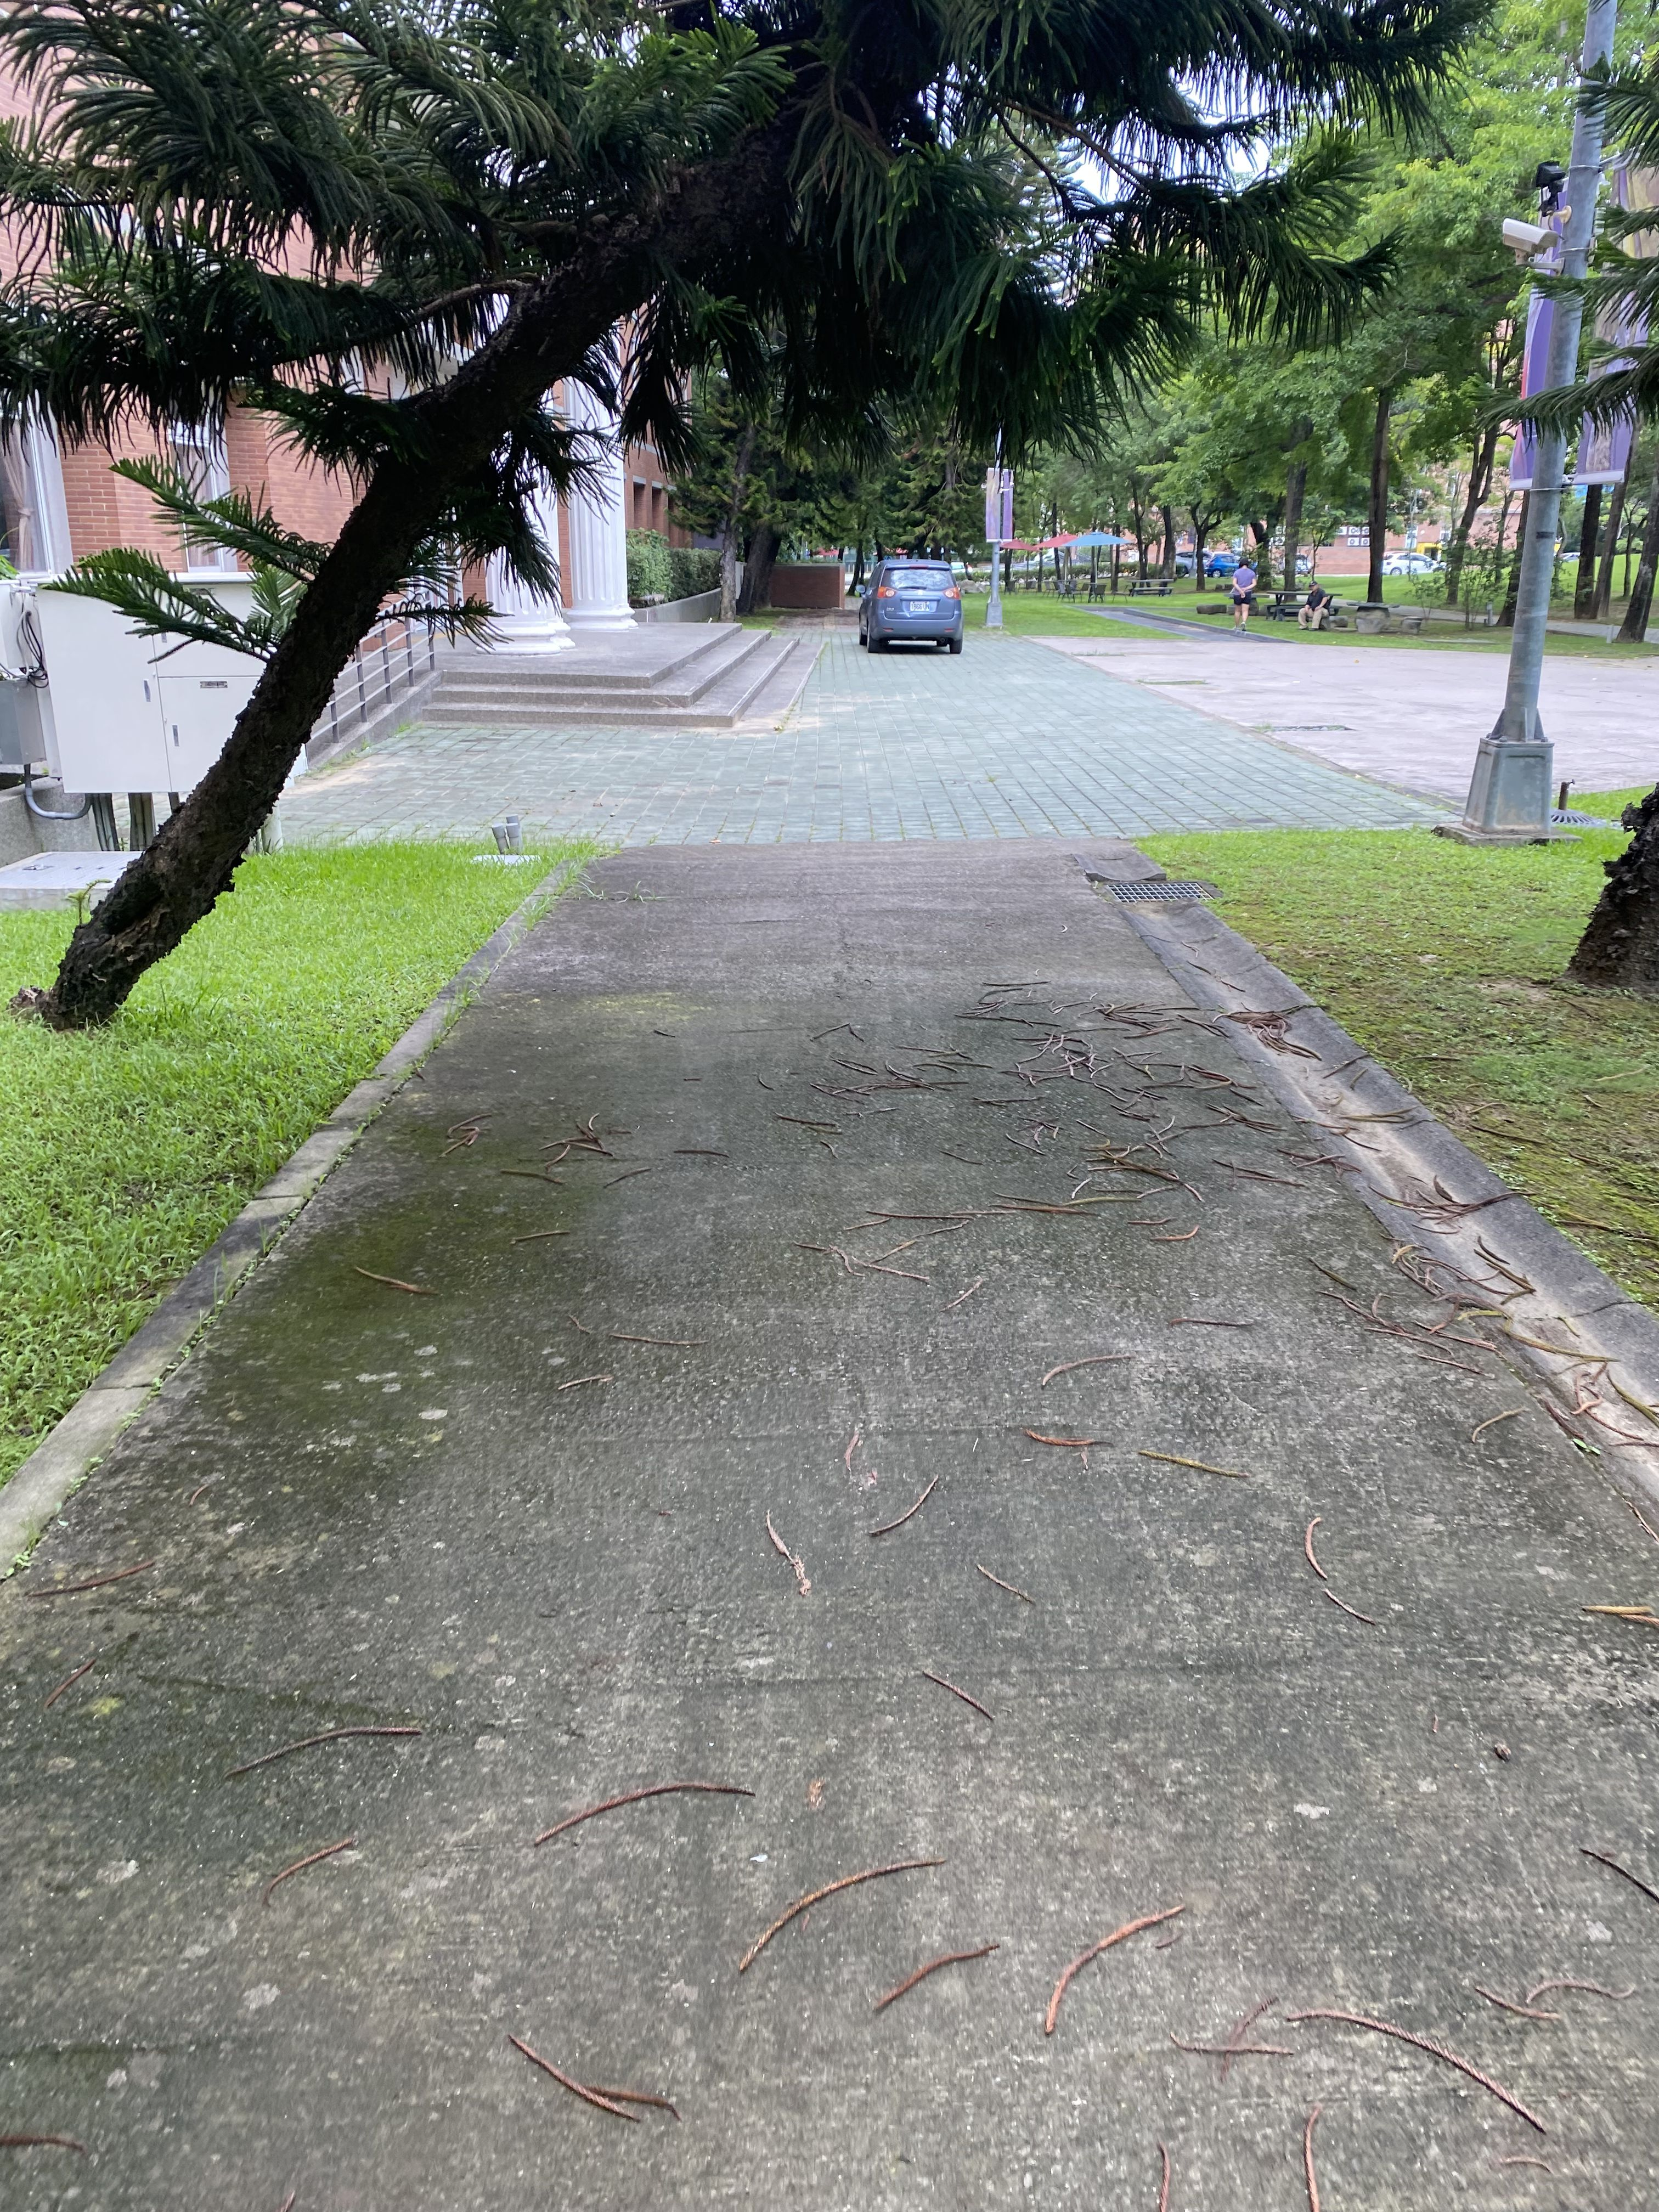0: (263, 563, 1455, 894)
sidewalk: (0, 834, 1659, 2200)
